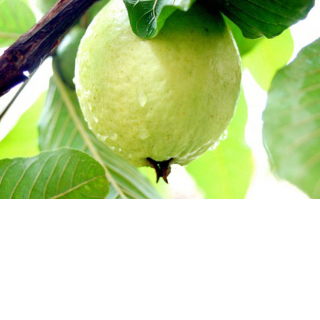oi: (75, 1, 244, 182)
